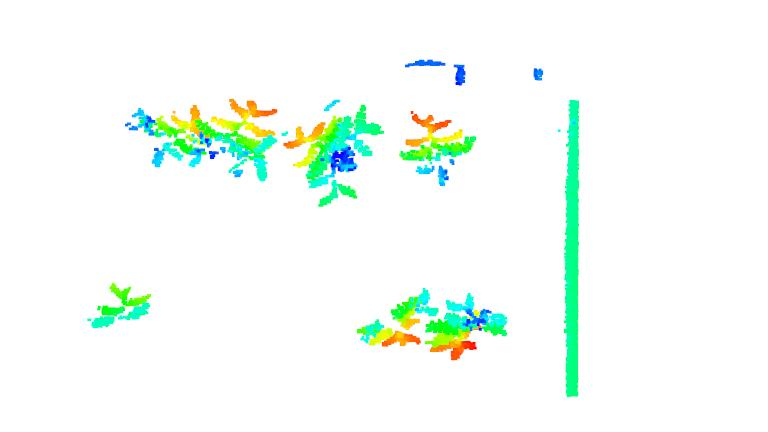chickpea: (283, 103, 382, 206), (398, 109, 477, 187), (208, 98, 280, 182), (425, 291, 509, 360), (359, 289, 437, 353), (127, 106, 206, 167), (87, 283, 154, 330)
